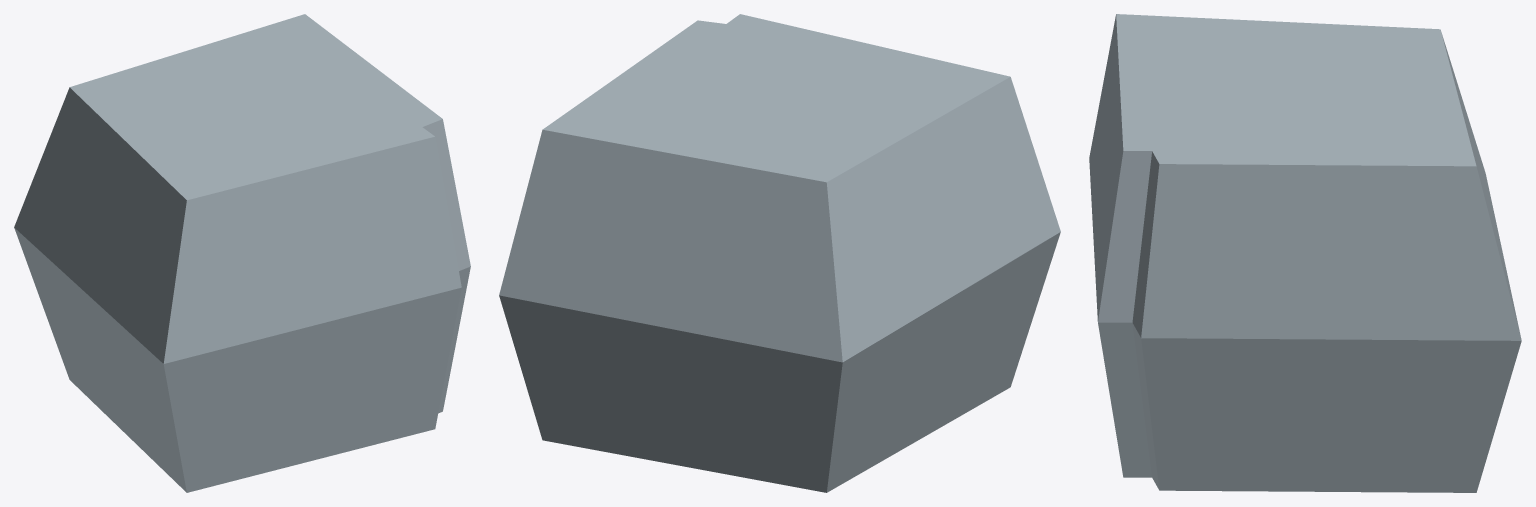
The model's file is Rock_05.fbx.
3 renders of one model, left to right at view 1: azimuth 30°, elevation 25°; view 2: azimuth 150°, elevation 25°; view 3: azimuth 270°, elevation 25°, orthographic. The views are drawn at different scales.
Visible parts, largest first — view 1: Cube.002; view 2: Cube.002; view 3: Cube.002.
Boxes of the visible parts, <box> form: Cube.002: <box>14,14,470,492</box>; Cube.002: <box>499,14,1060,492</box>; Cube.002: <box>1089,14,1521,492</box>.
Bounding box in the file's own units: 1.73 × 1.44 × 1.73.
